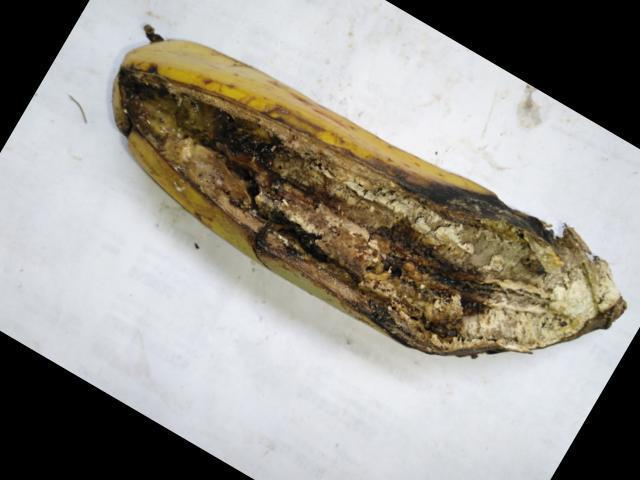rotten: (102, 70, 632, 370)
